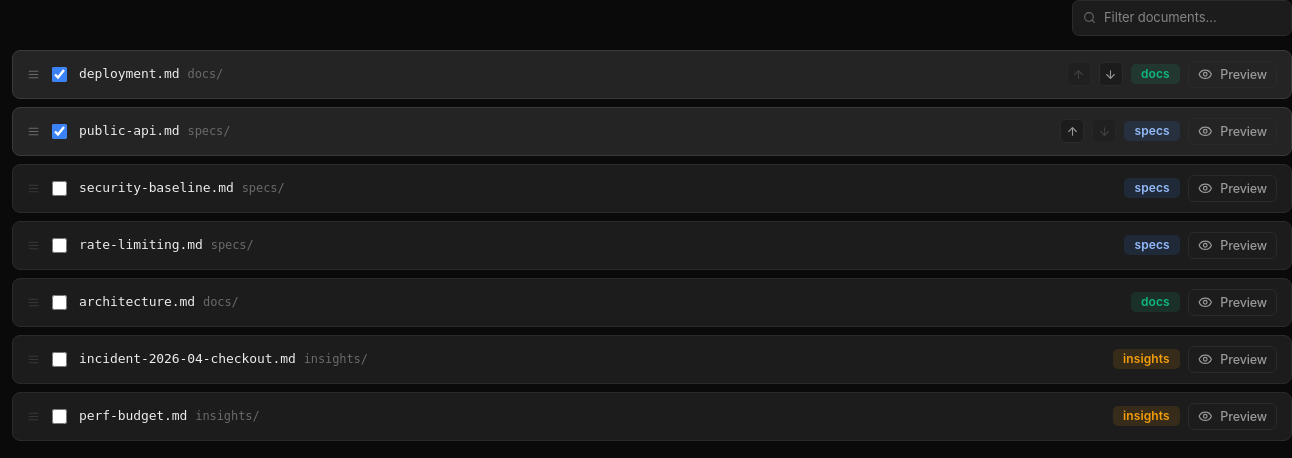
Test: AttachmentEditor — the rows › filters every row by the typed text, ignoring case, without a request (AC-32, NFR-13)
The width and height of the screenshot is (1292, 458).
Type "PUBLIC" into the search field labelled "Filter documents…".
click(1192, 18); type("PUBLIC")  # box [1104,8,1281,28]
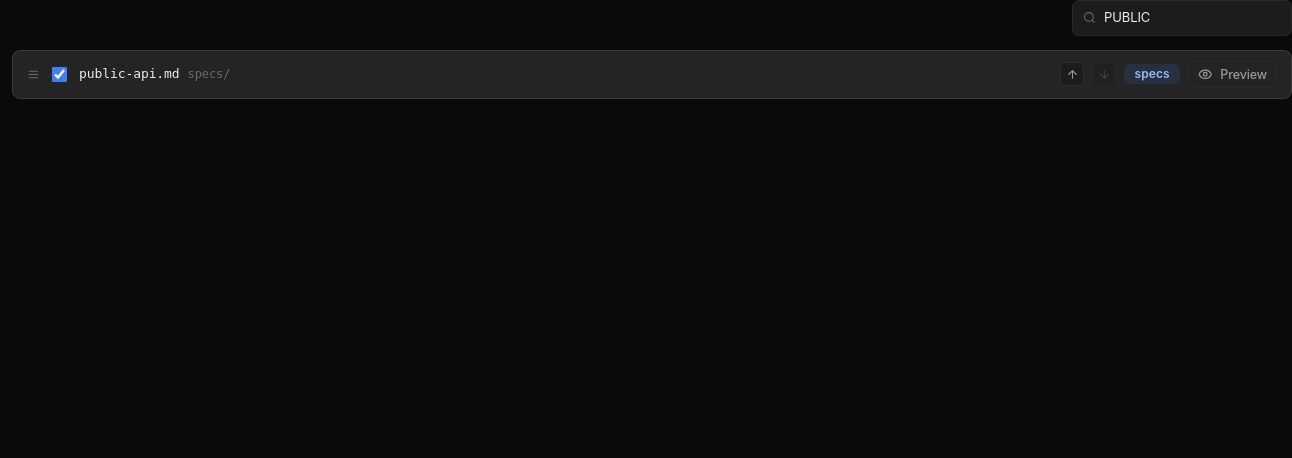
Replace the text in the search field named "Filter documents…" with "docs/" at (1192, 18), box [1104,8,1281,28]
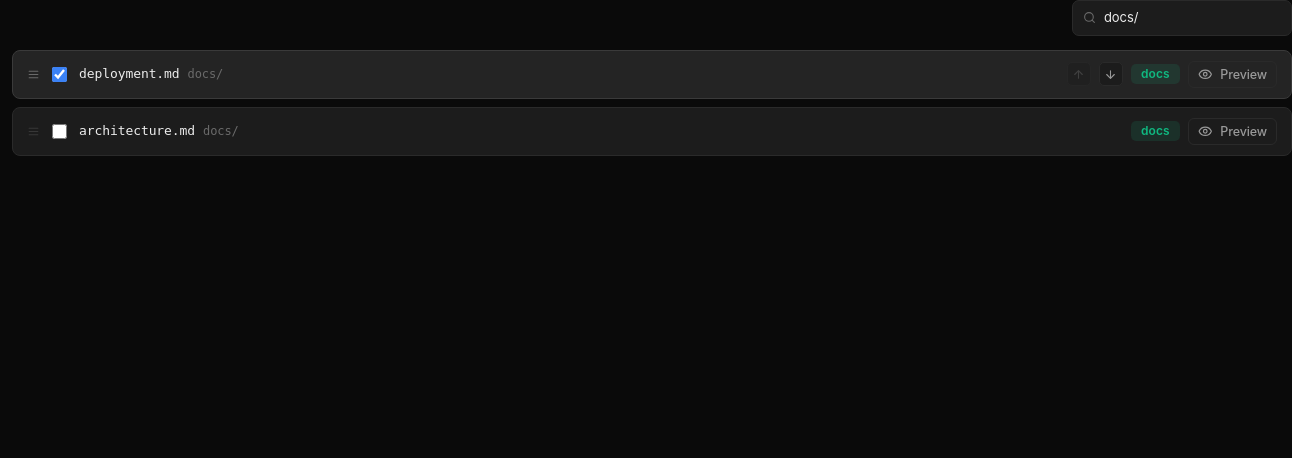
Replace the text in the search field named "Filter documents…" with "nothing-like-this" at (1192, 18), box [1104,8,1281,28]
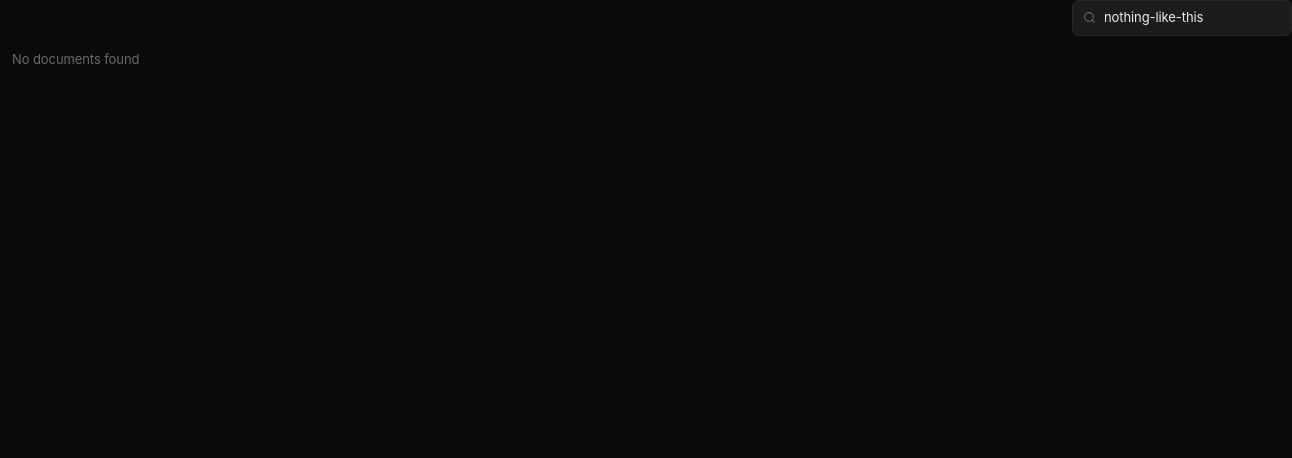
expect no list items are shown: met
expect the text "No documents found" is shown: met, box [12,50,139,66]
